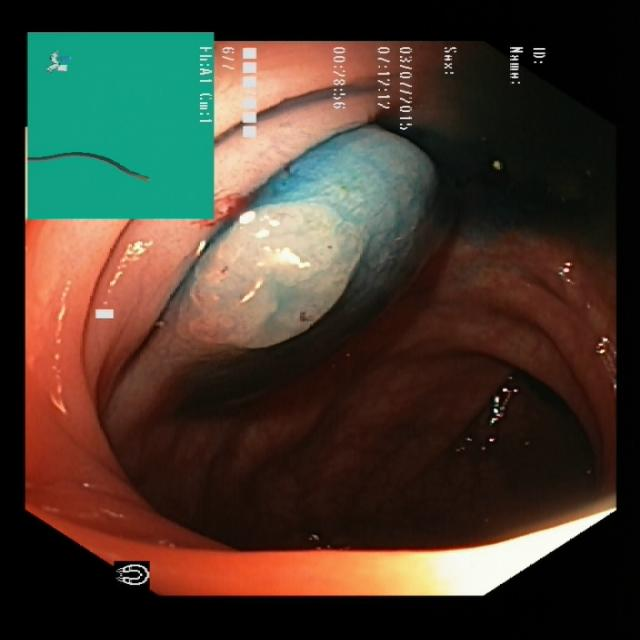dyed-lifted-polyps: (144, 125, 453, 355)
